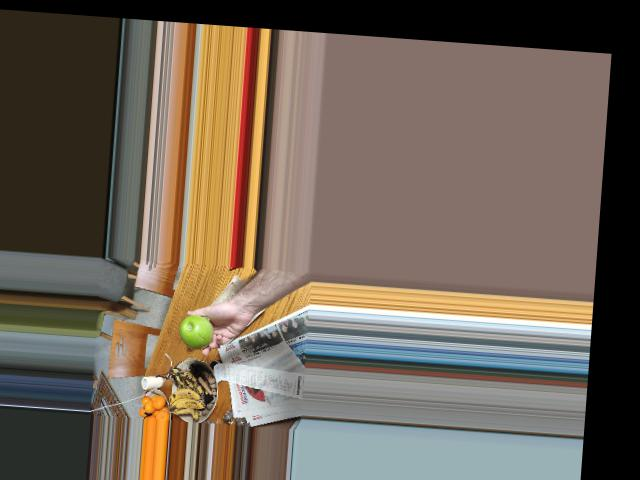apple: (175, 312, 214, 351)
